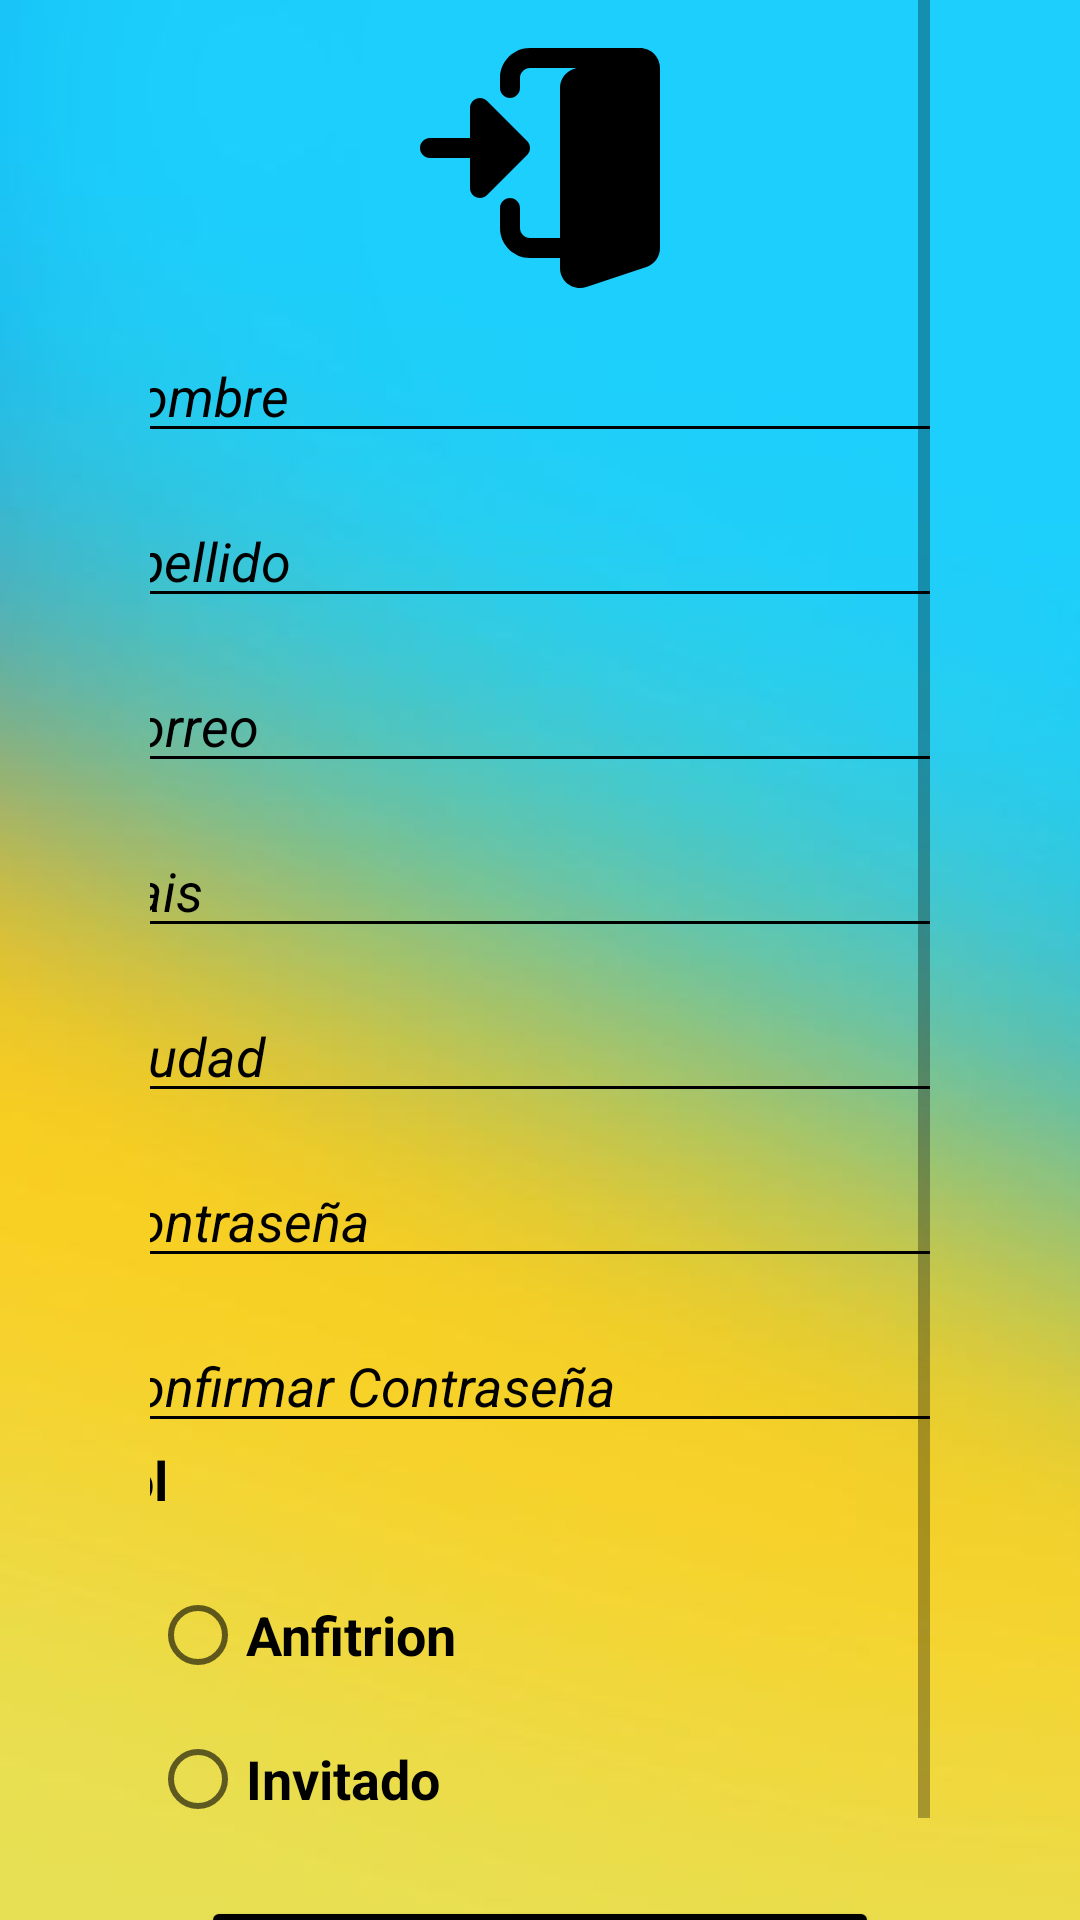

Point at icon controls on the screen. Image size 1080 × 1920, points as (x=x, y=y).
log in: (x=540, y=168)
